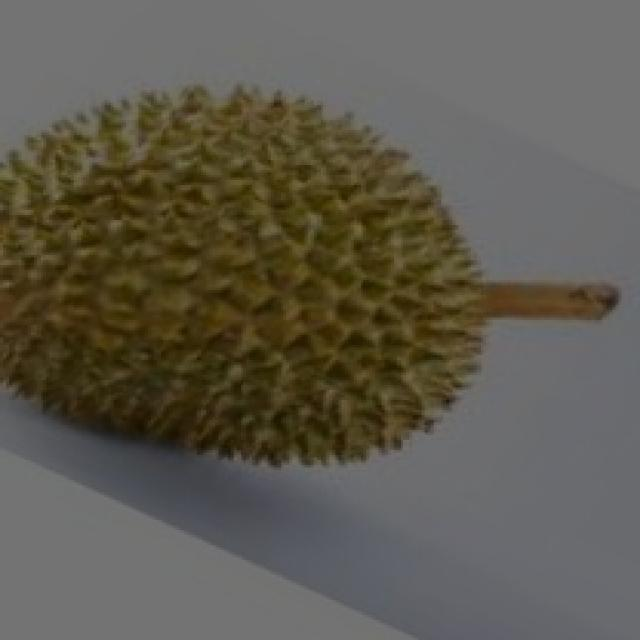fruit: (166, 90, 554, 535), (0, 58, 345, 532)
